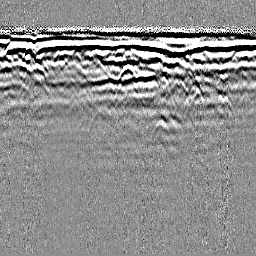cavity: (115, 63, 141, 87)
